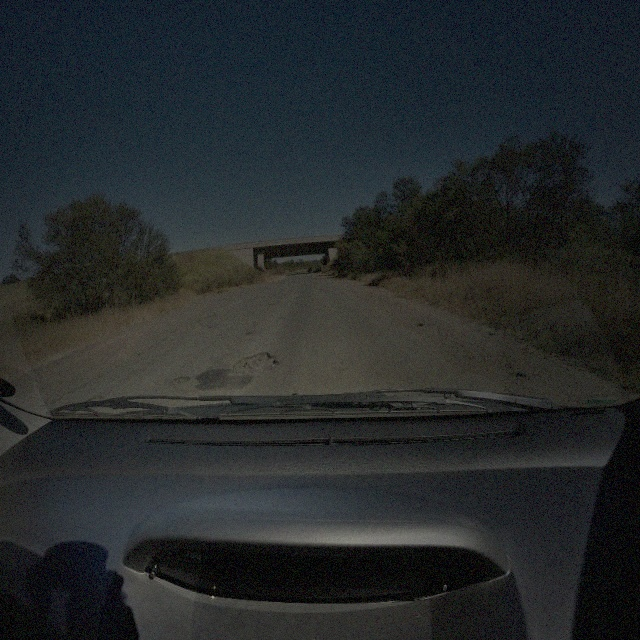pothole: (230, 348, 278, 374), (170, 375, 187, 384)
